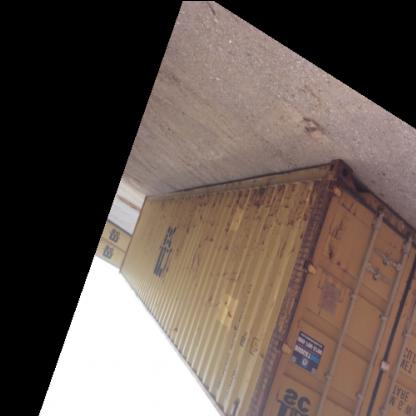Damage: (240, 178, 318, 258), (189, 190, 219, 225), (152, 192, 184, 220), (219, 296, 240, 336), (324, 247, 352, 274), (208, 267, 243, 288), (326, 212, 348, 244), (183, 248, 203, 276), (222, 186, 240, 213), (200, 293, 216, 311), (200, 232, 216, 249), (222, 218, 233, 236), (178, 225, 188, 239), (167, 328, 179, 337), (219, 242, 227, 254)
